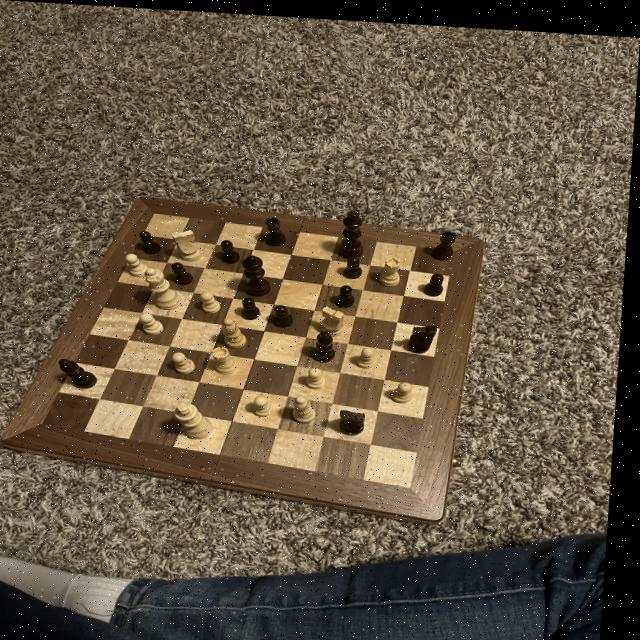bishop: (59, 355, 107, 390), (310, 325, 342, 361)
black-bishop: (335, 202, 372, 259)
black-king: (404, 318, 445, 351), (340, 402, 377, 434)
black-knight: (139, 309, 172, 338), (134, 226, 167, 255), (125, 249, 156, 278), (171, 346, 202, 374), (218, 234, 247, 263), (356, 340, 385, 368), (200, 286, 229, 314), (424, 264, 451, 294), (273, 299, 301, 326), (240, 292, 267, 319), (337, 278, 363, 306), (343, 249, 367, 277), (307, 362, 333, 387), (394, 374, 418, 401), (173, 259, 197, 285), (255, 391, 281, 414)
black-pawn: (240, 248, 280, 297)
black-queen: (430, 222, 462, 257), (263, 211, 294, 245)
black-rook: (291, 391, 327, 423), (223, 314, 255, 349)
white-bishop: (177, 397, 222, 440)
white-king: (167, 224, 208, 261), (320, 298, 353, 336)
white-pawn: (141, 263, 191, 311)
white-queen: (213, 341, 246, 377), (380, 250, 408, 284)
